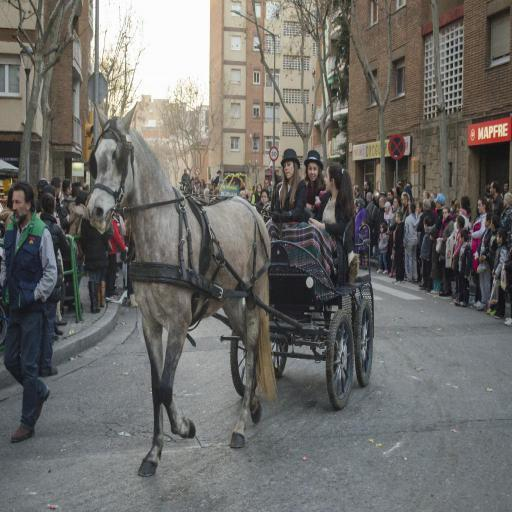horse: (84, 100, 280, 477)
